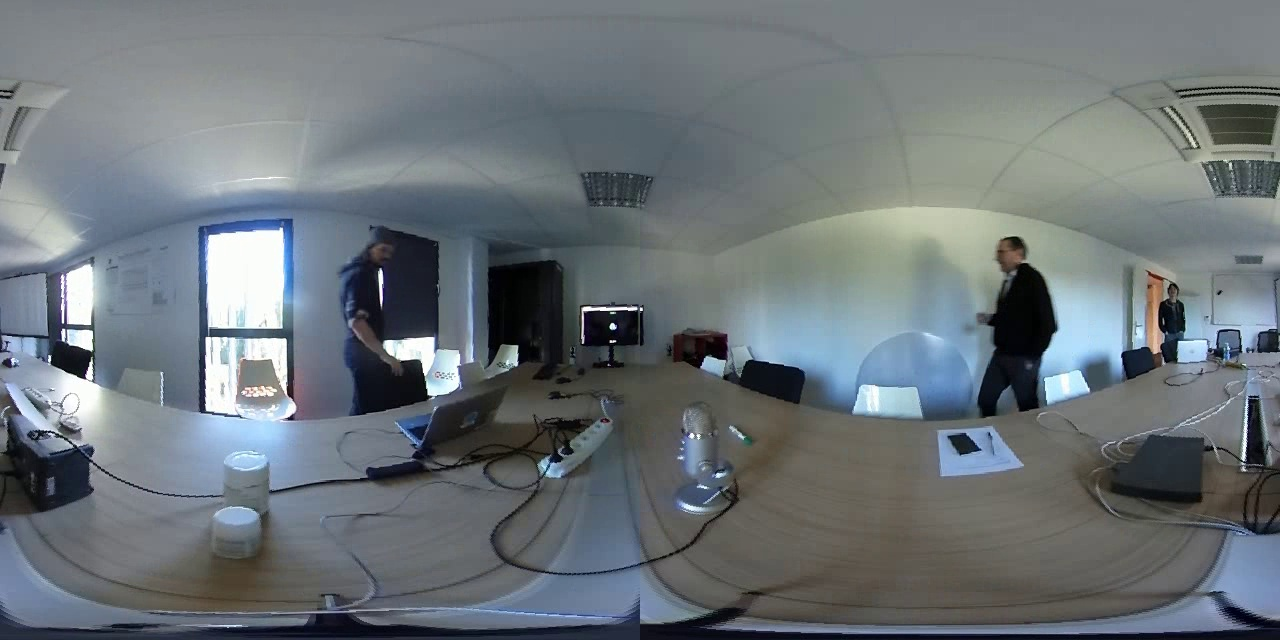person: (976, 229, 1062, 394), (334, 216, 422, 367), (1149, 276, 1201, 349)
